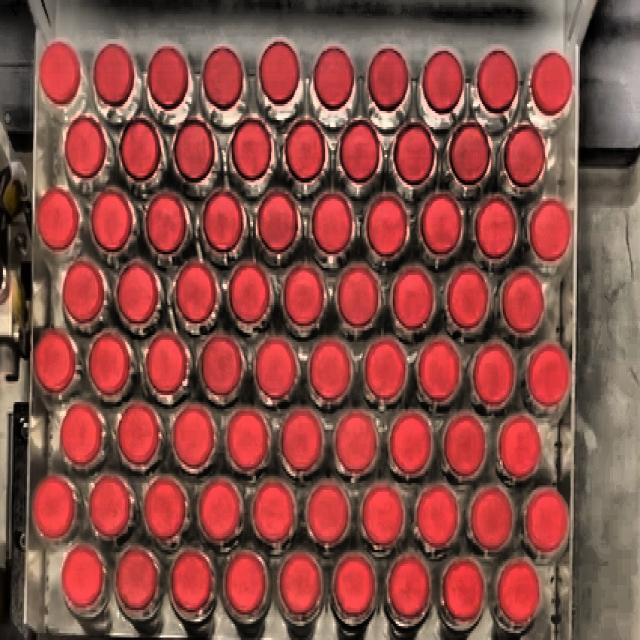vial: (312, 198, 362, 260), (476, 198, 522, 262), (200, 332, 244, 390), (502, 122, 550, 175), (90, 186, 130, 248), (284, 272, 328, 327), (418, 341, 465, 391), (85, 477, 130, 529), (61, 400, 102, 457), (152, 41, 192, 99), (449, 120, 488, 179), (119, 264, 158, 322), (446, 418, 485, 476), (339, 128, 383, 179), (365, 485, 403, 544), (504, 273, 544, 329), (534, 194, 570, 256), (396, 123, 433, 183), (116, 406, 157, 460), (371, 193, 406, 256), (341, 266, 379, 324), (36, 472, 74, 530), (230, 266, 270, 321), (177, 265, 216, 321), (473, 494, 517, 543), (148, 188, 182, 251), (501, 557, 542, 609), (227, 408, 267, 461), (474, 350, 516, 400), (148, 333, 186, 388), (310, 488, 348, 543), (38, 334, 75, 390), (479, 52, 517, 106), (389, 556, 427, 610), (362, 339, 403, 389), (66, 552, 105, 604), (278, 562, 322, 608), (64, 259, 100, 315), (418, 487, 454, 543), (260, 194, 294, 253), (38, 191, 78, 241), (315, 51, 354, 102), (209, 194, 242, 254), (168, 554, 209, 602), (452, 259, 484, 320), (42, 48, 80, 99), (257, 483, 291, 540), (234, 124, 275, 171), (95, 46, 132, 98), (204, 54, 244, 102), (258, 339, 298, 387), (426, 58, 465, 106), (394, 414, 429, 467), (338, 411, 372, 465), (531, 492, 566, 544), (530, 347, 564, 400), (122, 124, 162, 169), (89, 338, 129, 383), (202, 481, 238, 531), (334, 562, 372, 609), (504, 422, 539, 473), (65, 121, 103, 167), (443, 563, 479, 611), (262, 46, 302, 89), (288, 122, 324, 169), (175, 125, 212, 170), (398, 271, 430, 323), (226, 554, 260, 602), (531, 61, 567, 106), (425, 195, 457, 245), (283, 414, 317, 461), (315, 343, 347, 392), (123, 558, 159, 601), (149, 487, 183, 531), (374, 58, 410, 96), (176, 414, 207, 457)
